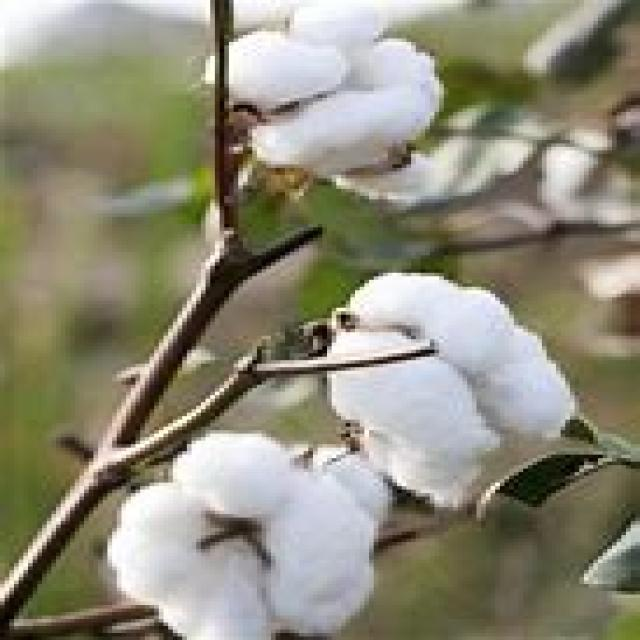Matured Cotton Boll: (324, 262, 572, 512), (103, 423, 388, 640), (197, 4, 450, 182)
